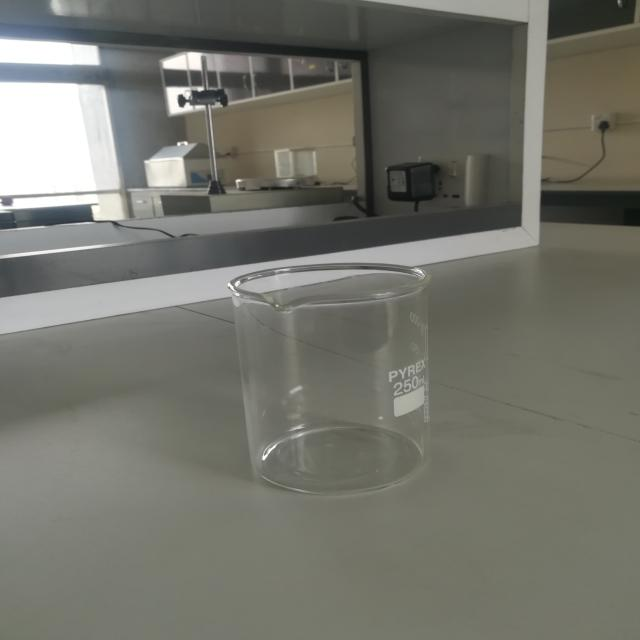Beaker: (205, 222, 469, 522)
